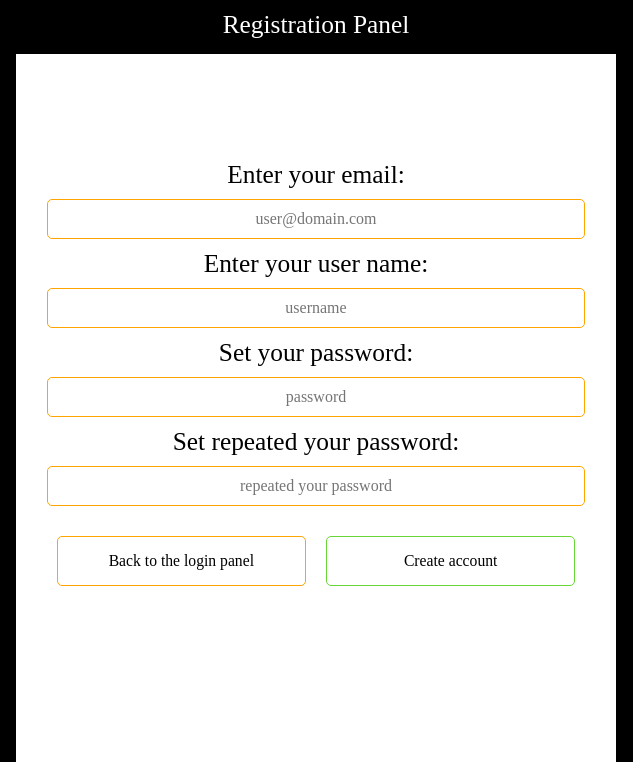
Test: Tests Business Logic › show validation info when click create account in empty form
What coordinates should you click on to do the following:
click the button "Create account"
I would click on:
 (451, 561)
Its box is x1=326 y1=536 x2=575 y2=586.
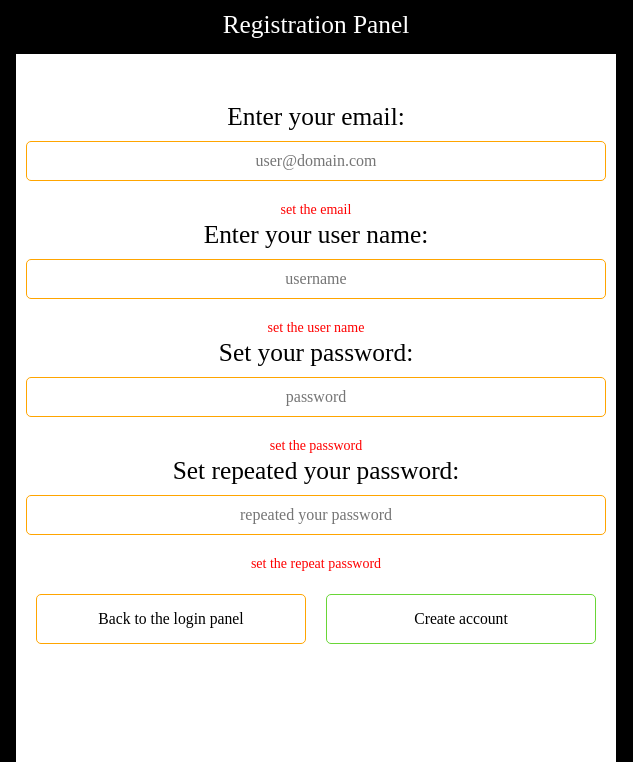
expect the text with test id "span-validationEmail-message" reads "set the email": met, box x1=281 y1=202 x2=351 y2=217
expect the text with test id "span-validationUsername-message" reads "set the user name": met, box x1=268 y1=320 x2=364 y2=335
expect the text with test id "span-validationPassword-message" reads "set the password": met, box x1=270 y1=438 x2=362 y2=453
